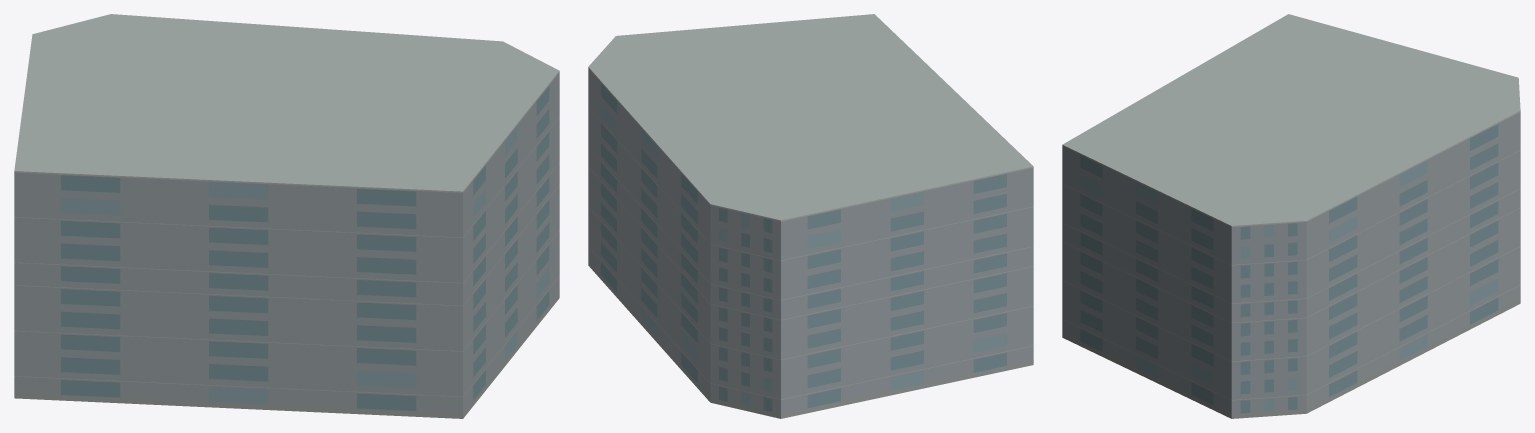
File: survey-upis-33030312.glb
The picture shows the model from 3 angles, left to right: view 1: azimuth 30°, elevation 25°; view 2: azimuth 150°, elevation 25°; view 3: azimuth 270°, elevation 25°; orthographic projection. The views are drawn at different scales.
Parts seen in each view (by area): view 1: survey-upis-33030312.tmp; view 2: survey-upis-33030312.tmp; view 3: survey-upis-33030312.tmp.
Part boxes in pixels (x1,y1,x2,y2): survey-upis-33030312.tmp: [14, 14, 559, 418]; survey-upis-33030312.tmp: [588, 14, 1033, 418]; survey-upis-33030312.tmp: [1062, 14, 1520, 418].
Bounding box in the file's own units: 90.25 × 38.3 × 82.45.
